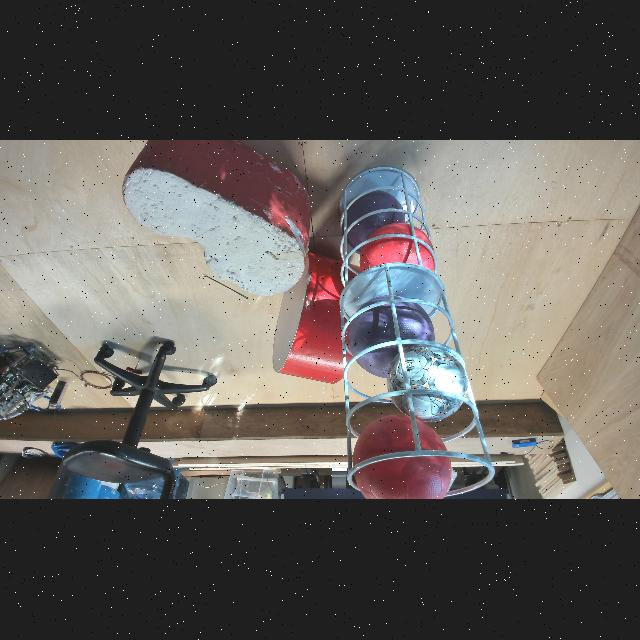P: (348, 294, 436, 382), (342, 189, 406, 255)
R: (351, 412, 454, 500), (358, 221, 437, 287)
S: (338, 262, 498, 498), (338, 165, 439, 295)
